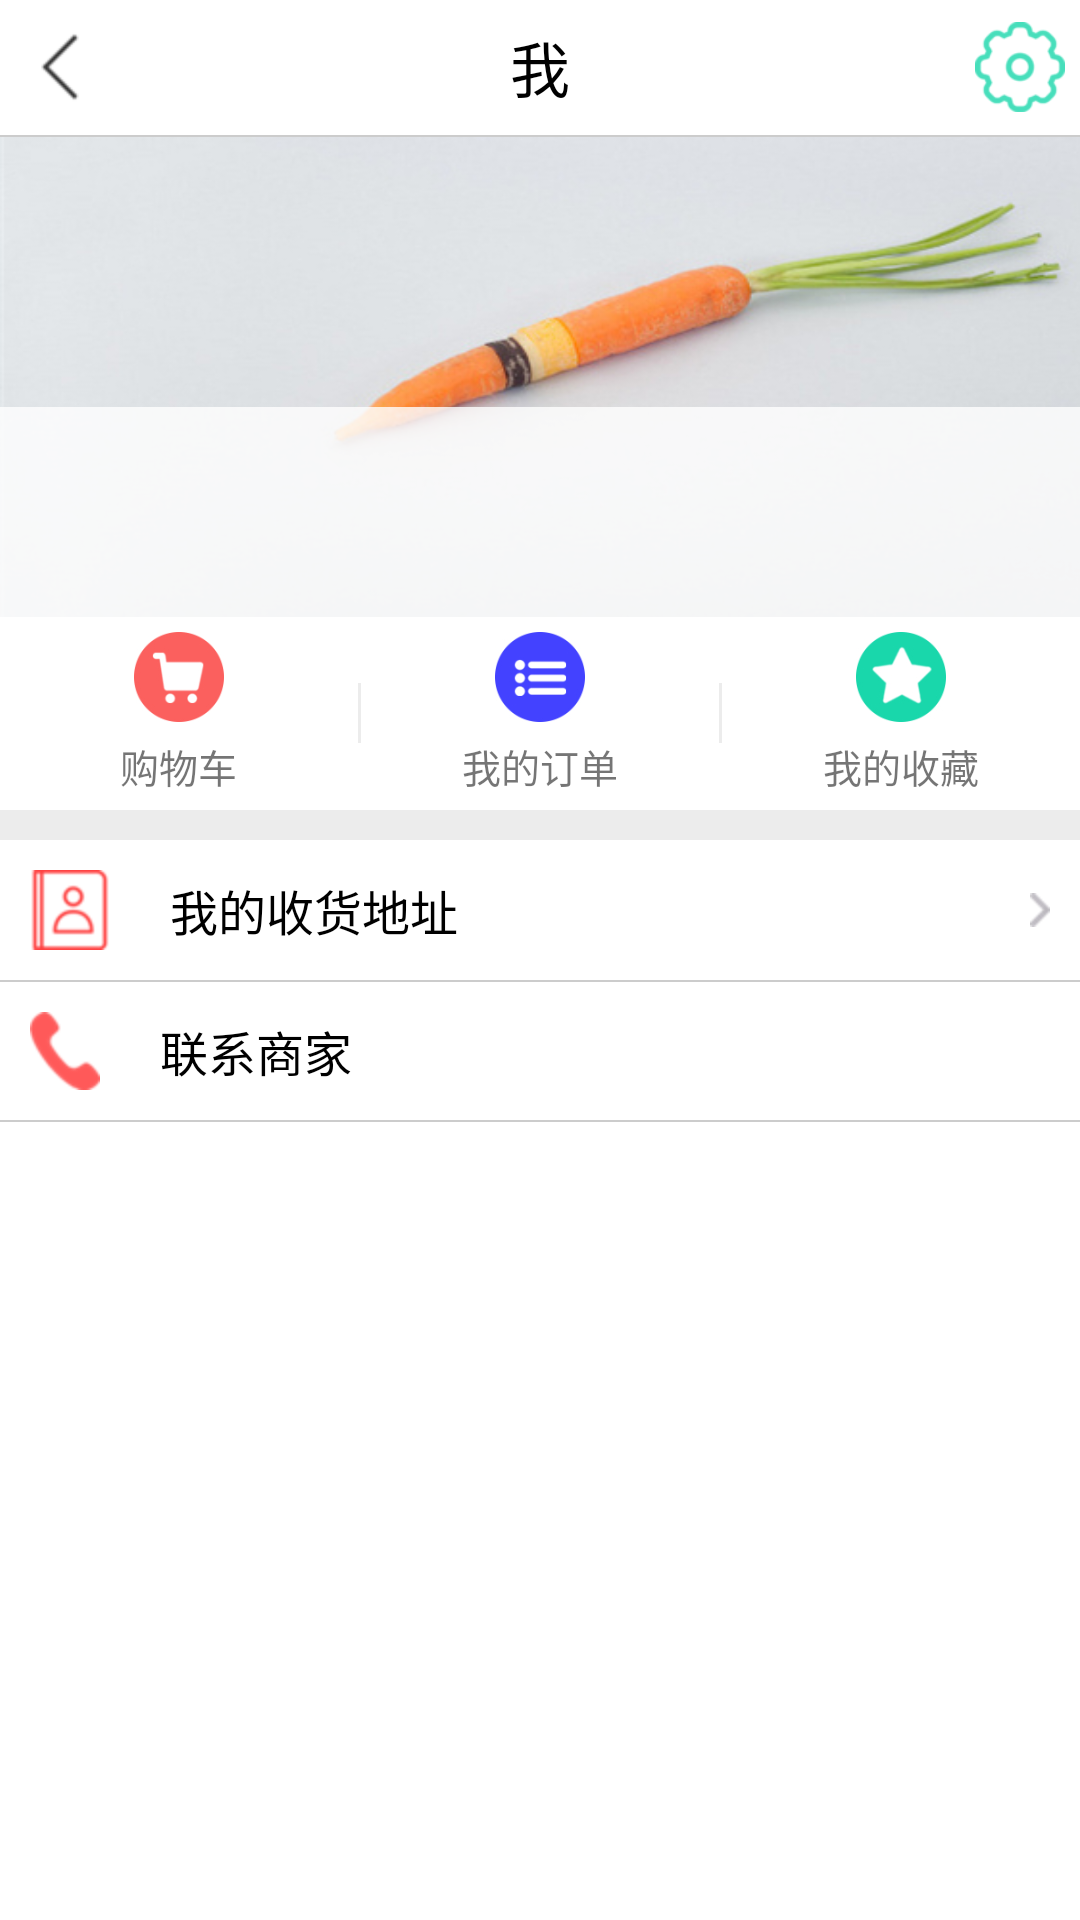

Named icons in this screenshot (1080x1920) and their centers, (x,y):
back: (60,67)
setting: (1020,67)
